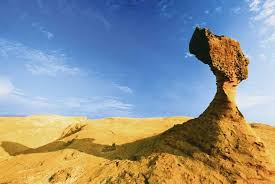yehliu: (185, 23, 259, 89)
